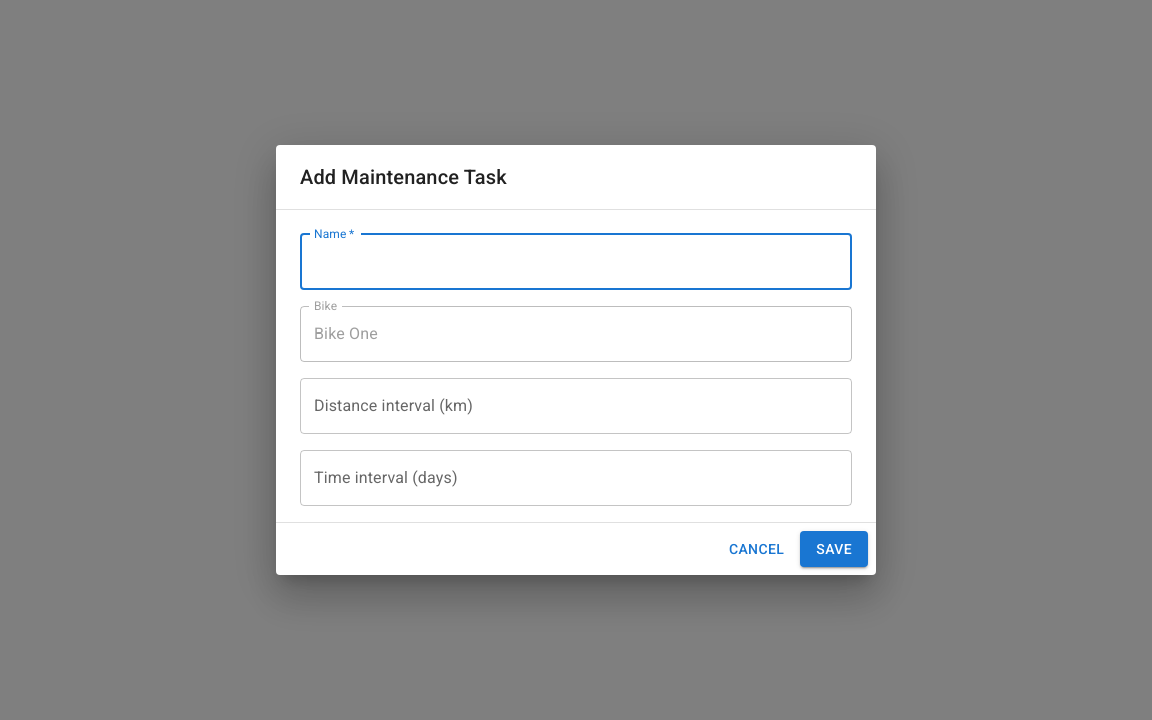
Test: MaintenanceTaskForm › rejects a task with no interval client-side
Type "Chain wax" into the field labelled "Name *" at (576, 262), box [300, 234, 852, 290]
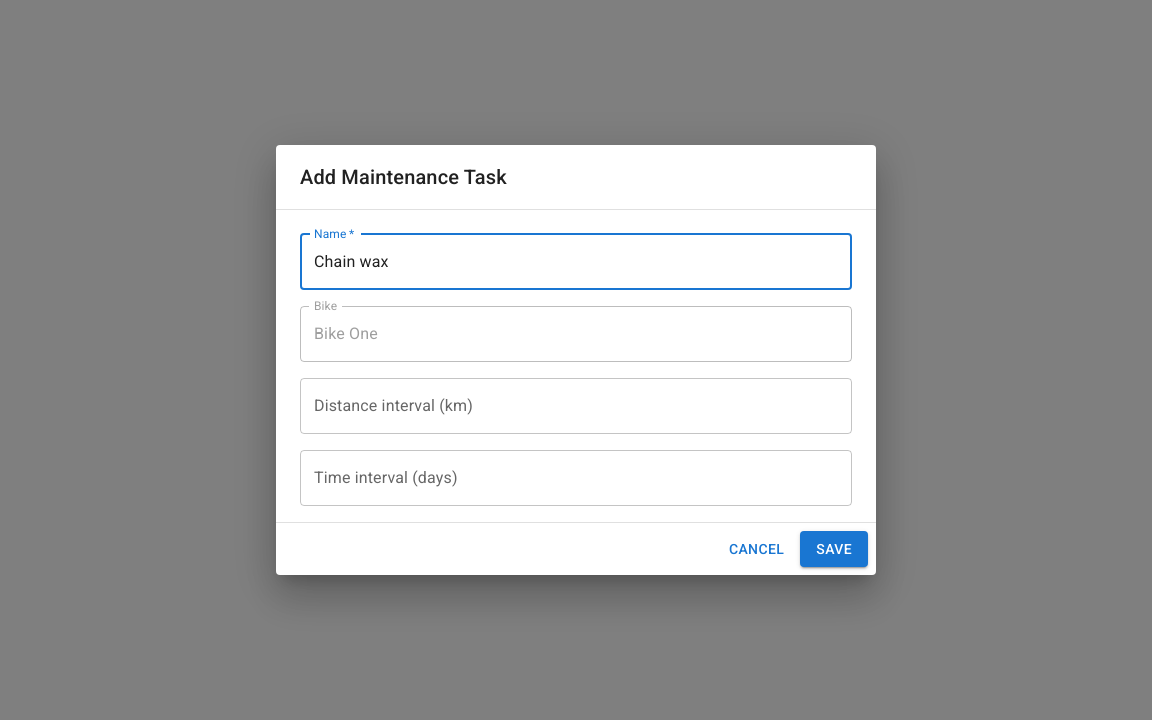
Click the button "Save" at (834, 549), box [800, 531, 868, 567]
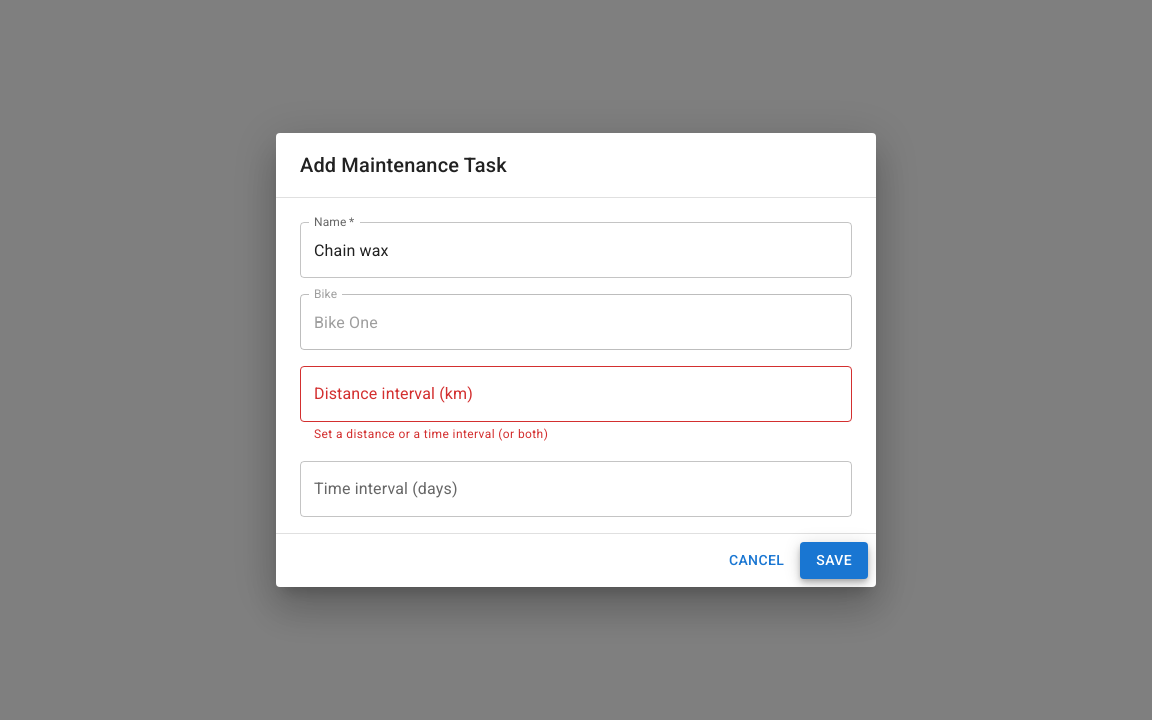
Result: the text "Set a distance or a time interval (or both)" is shown at [314, 427, 548, 441]
